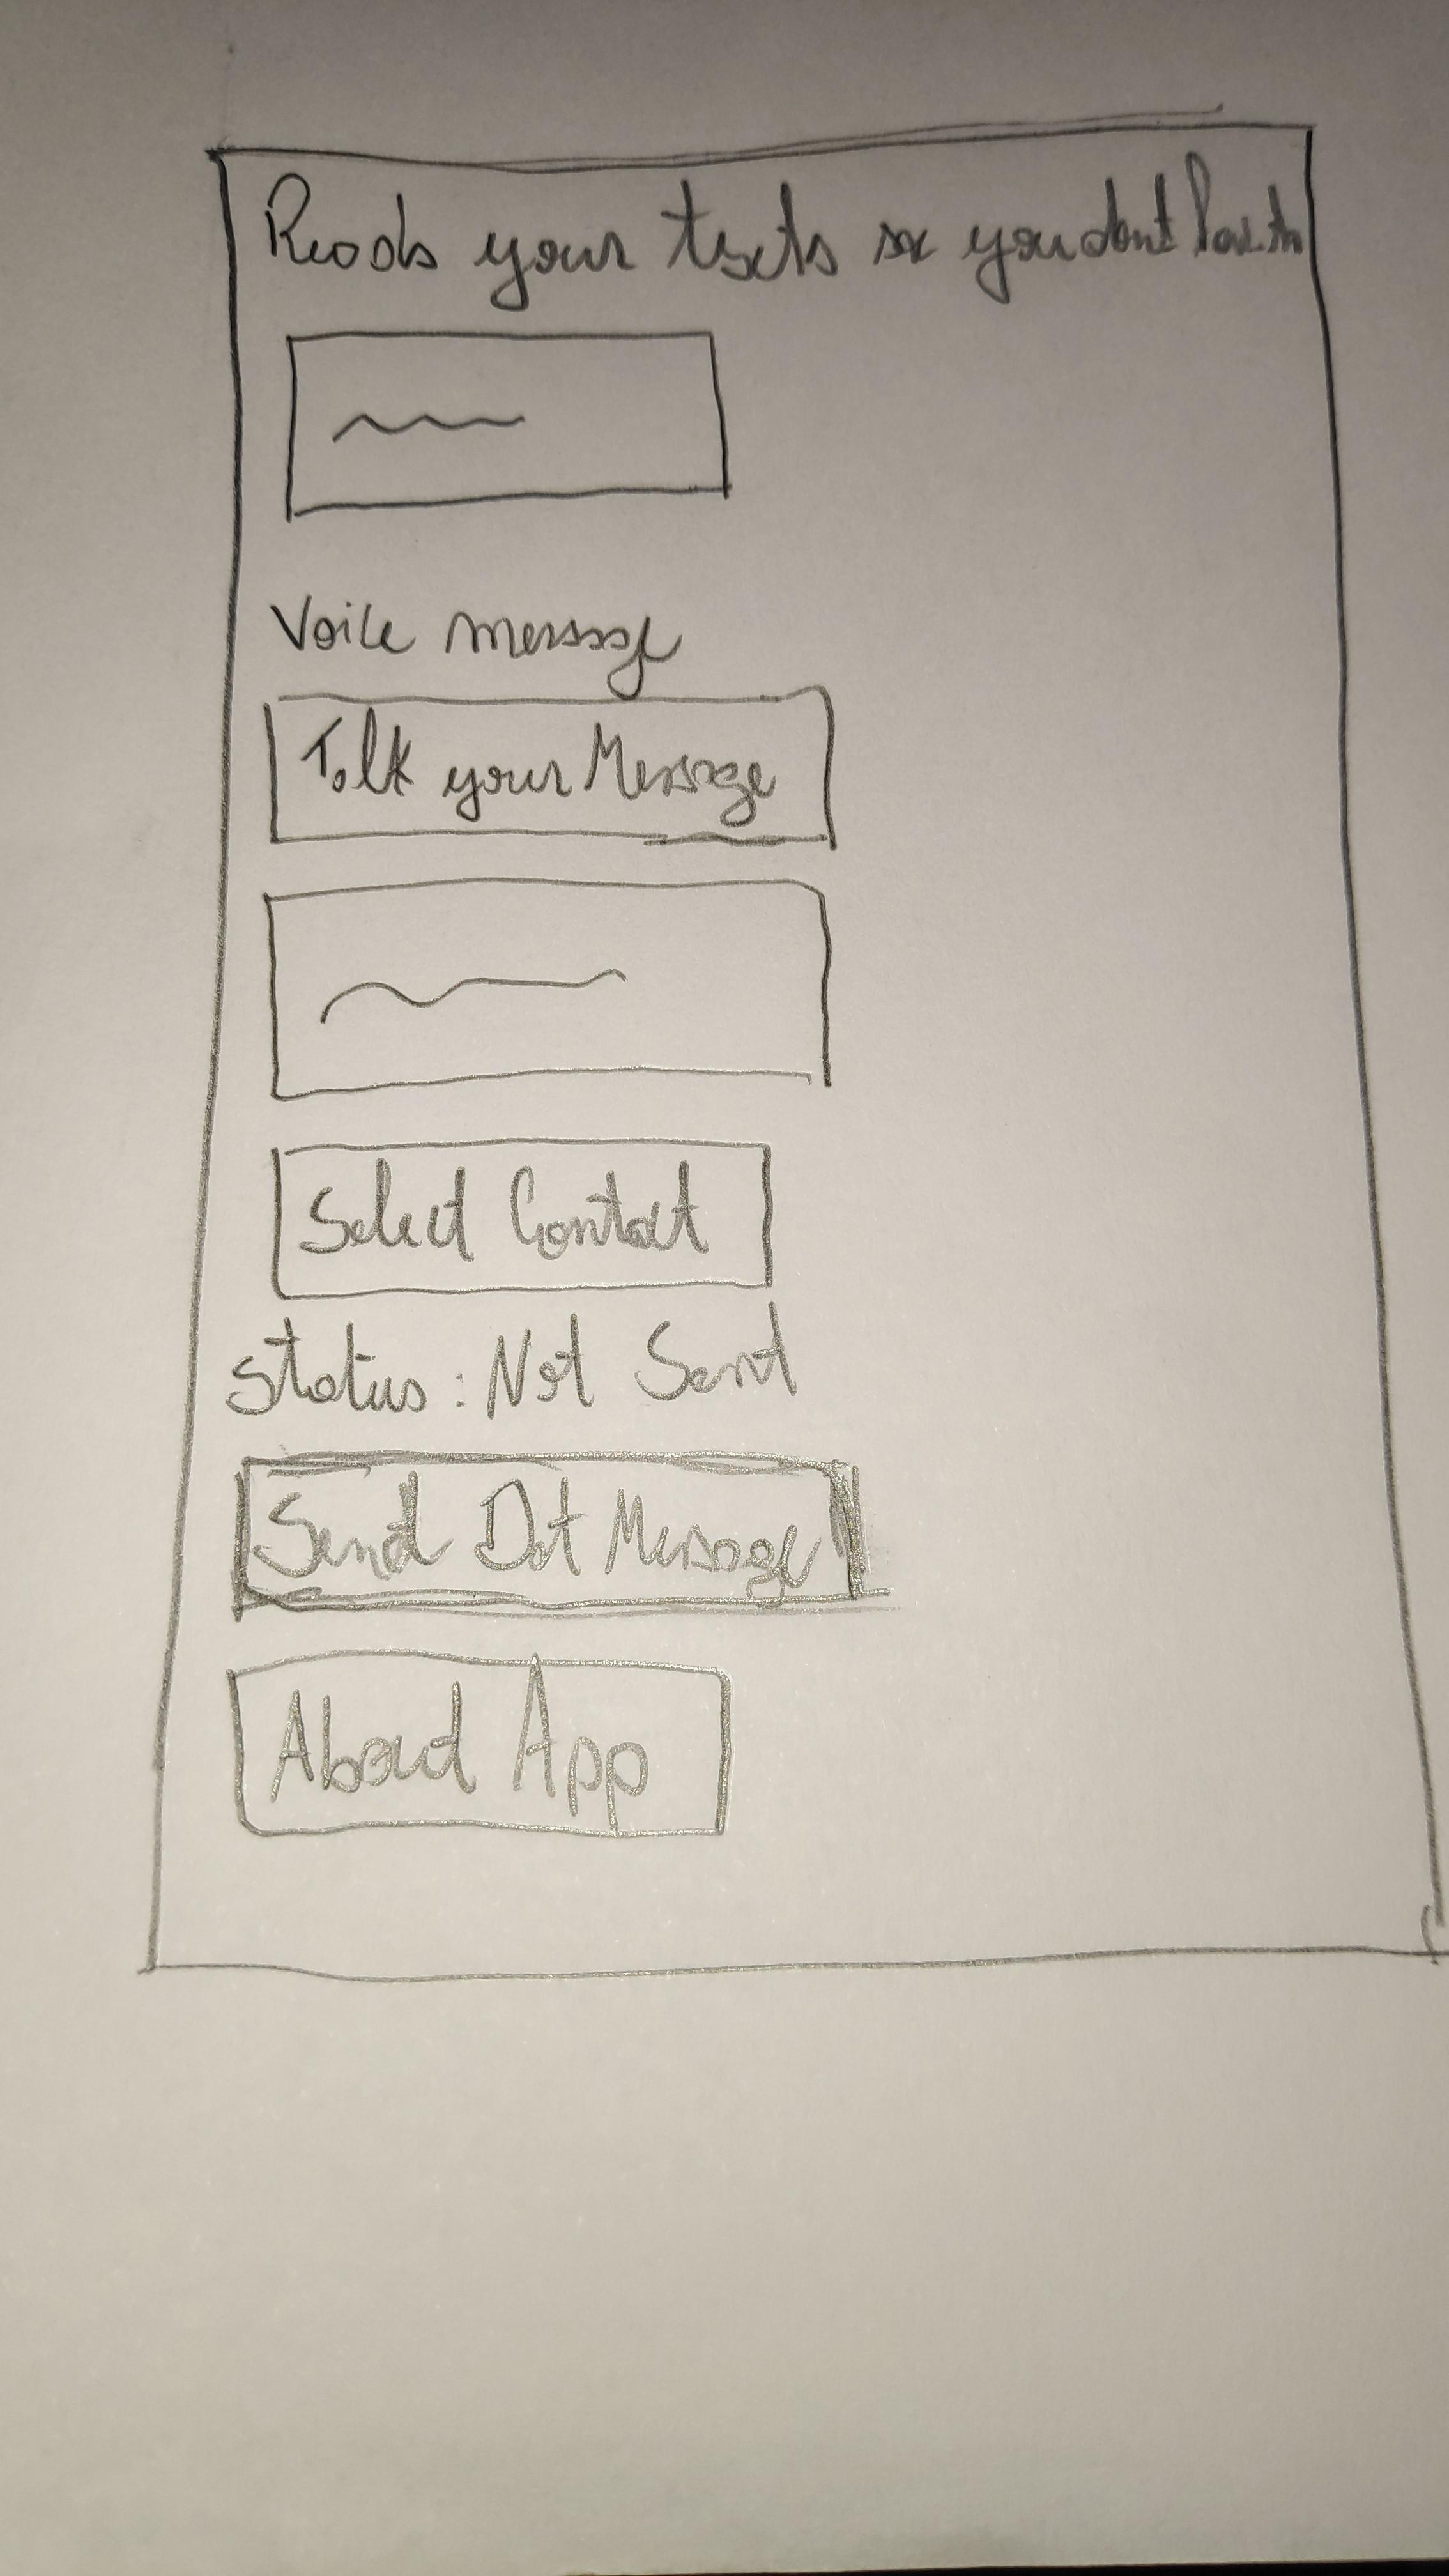Button: (235, 1451, 867, 1617), (228, 1649, 734, 1840), (264, 688, 837, 844), (272, 1141, 770, 1299)
Label: (264, 156, 1306, 306), (225, 1307, 800, 1417), (267, 589, 690, 694)
Screen: (149, 120, 1440, 1982)
TextBox: (265, 878, 830, 1102), (285, 327, 727, 522)
